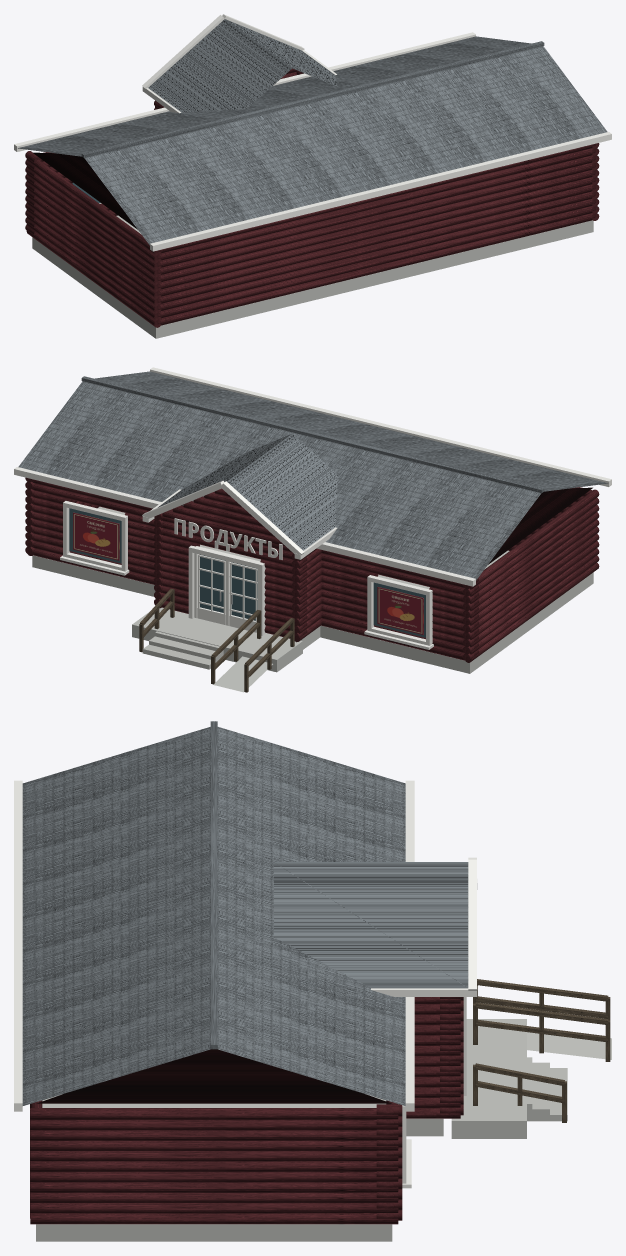
Rendered from village-store.glb.
The picture shows the model from 3 angles, top to bottom: view 1: azimuth 30°, elevation 25°; view 2: azimuth 150°, elevation 25°; view 3: azimuth 270°, elevation 25°; orthographic projection. The views are drawn at different scales.
Parts seen in each view (by area): view 1: village store exterior; view 2: village store exterior; view 3: village store exterior.
Boxes of the visible parts, <box> form: village store exterior: <box>14,14,611,338</box>; village store exterior: <box>14,367,611,692</box>; village store exterior: <box>14,721,611,1241</box>.
Bounding box in the file's own units: 19.35 × 6.39 × 15.11.
8 materials, 4 textured.
